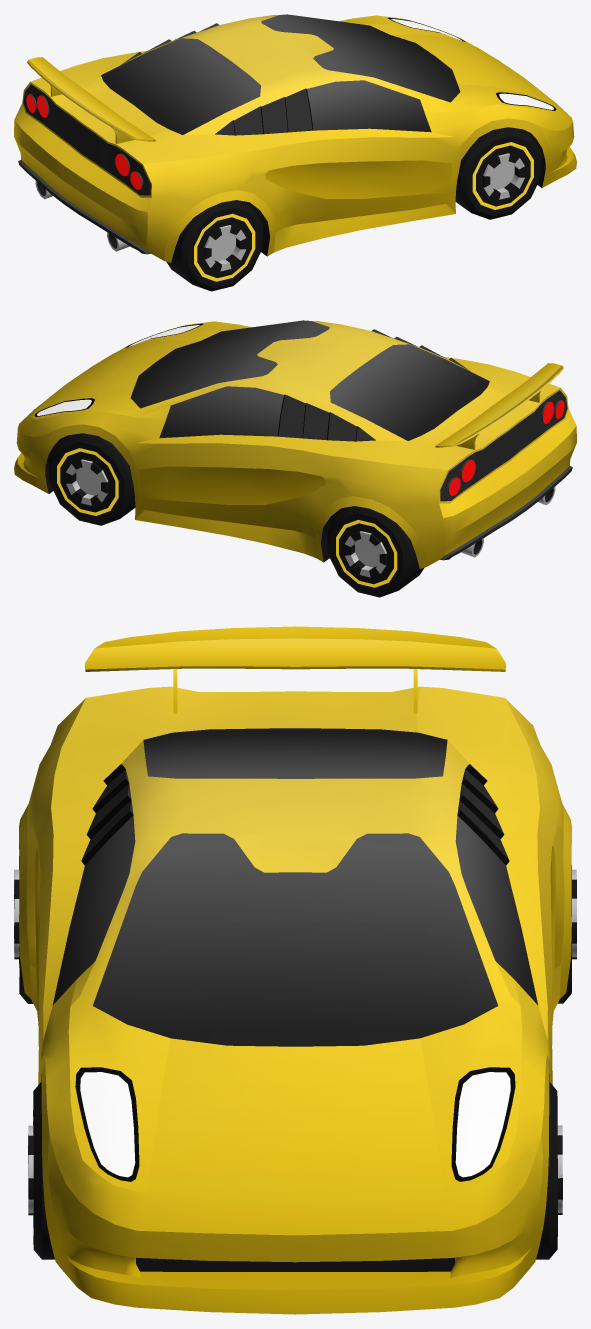
Rendered from Car_236.glb.
3 views of the same model, one above another, from view 1: azimuth 30°, elevation 25°; view 2: azimuth 150°, elevation 25°; view 3: azimuth 270°, elevation 25° (orthographic). The views are drawn at different scales.
Parts seen in each view (by area): view 1: Car_236, wheel_3_Car_236_Wheel_2R, wheel_1_Car_236_Wheel_1R; view 2: Car_236, wheel_2_Car_236_Wheel_2L, wheel_0_Car_236_Wheel_1L; view 3: Car_236, wheel_1_Car_236_Wheel_1R, wheel_0_Car_236_Wheel_1L.
Boxes of the visible parts, <box> form: Car_236: <box>14,14,576,262</box>; wheel_3_Car_236_Wheel_2R: <box>166,200,262,291</box>; wheel_1_Car_236_Wheel_1R: <box>455,127,541,219</box>; Car_236: <box>14,320,576,568</box>; wheel_2_Car_236_Wheel_2L: <box>327,506,424,597</box>; wheel_0_Car_236_Wheel_1L: <box>49,433,135,525</box>; Car_236: <box>19,626,571,1314</box>; wheel_1_Car_236_Wheel_1R: <box>28,1081,54,1259</box>; wheel_0_Car_236_Wheel_1L: <box>536,1082,562,1259</box>.
Bounding box in the file's own units: 3.69 × 1.17 × 2.03.
2 materials, 2 textured.
